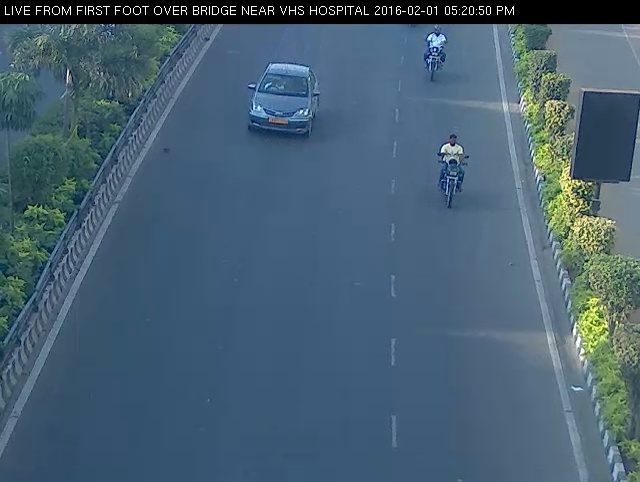Car: (239, 47, 326, 146)
Person: (425, 121, 481, 217), (416, 24, 453, 86)
